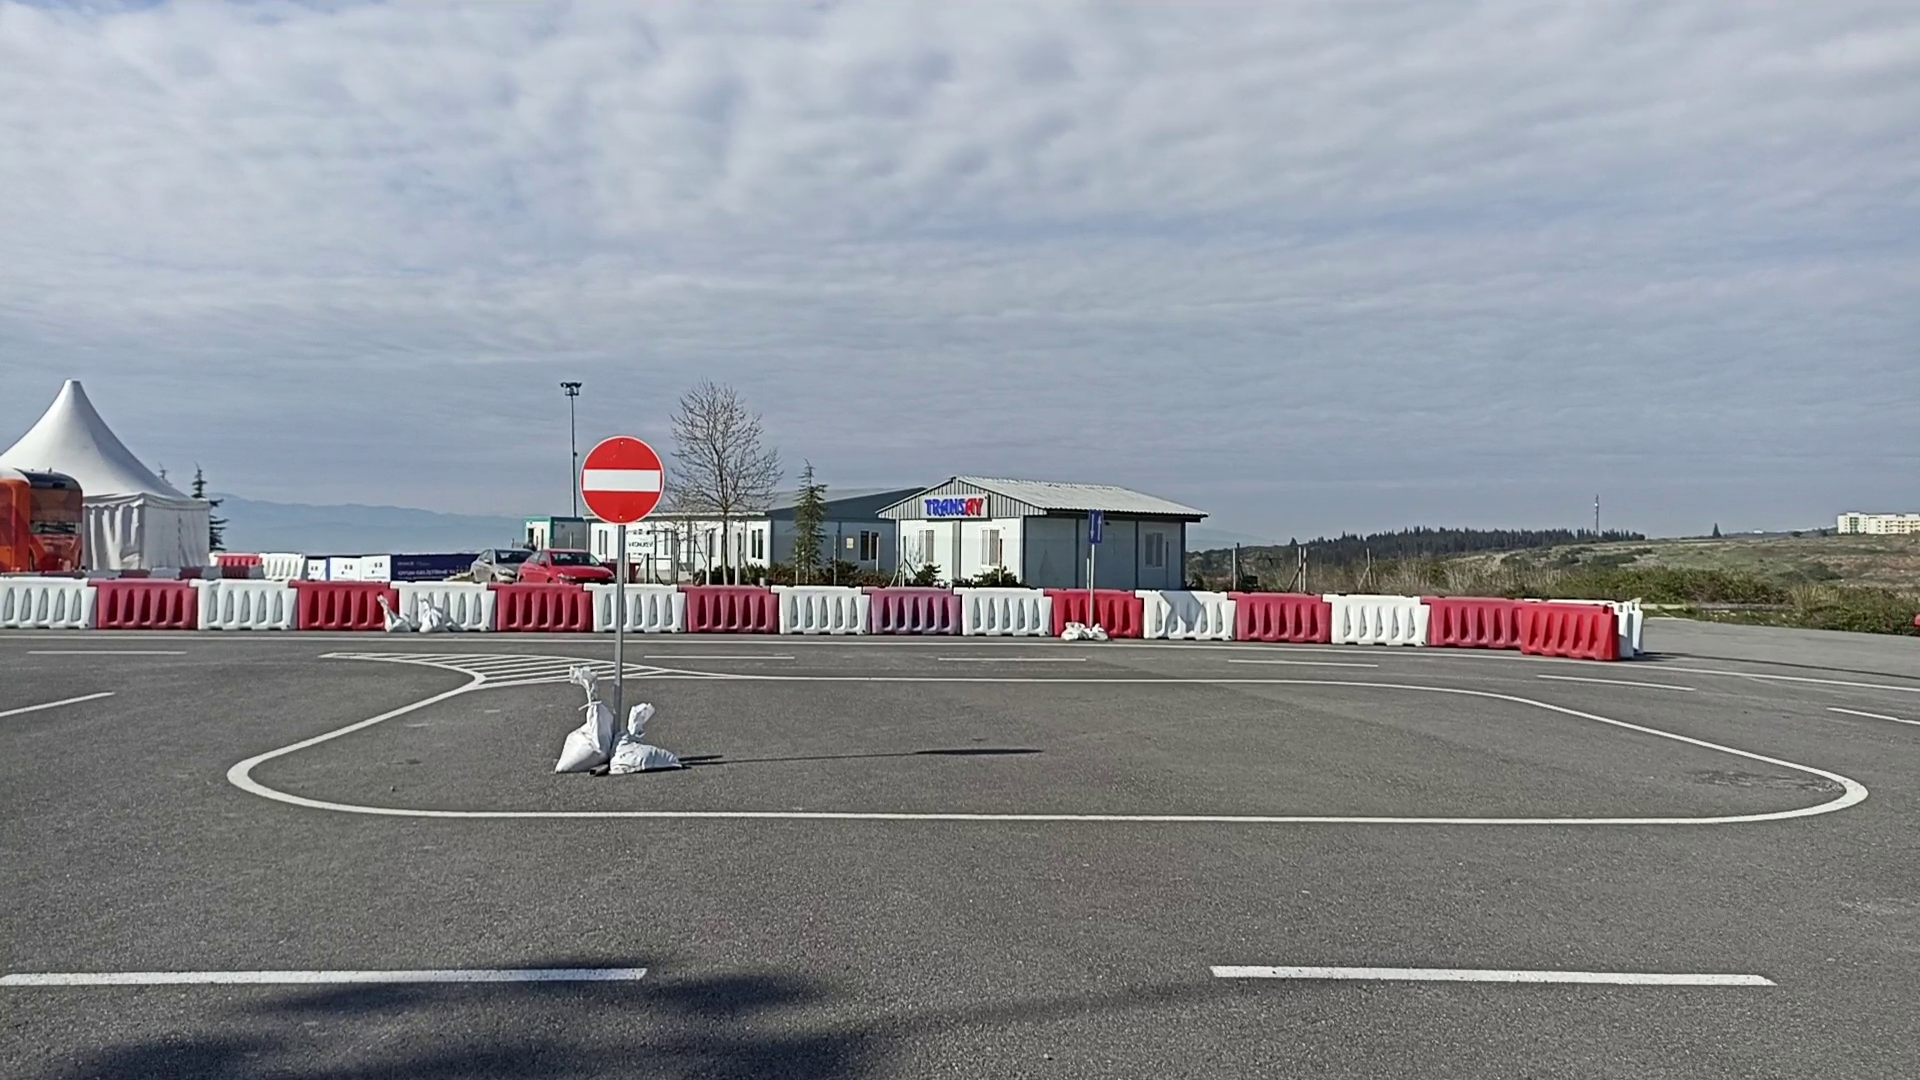noentryway: (578, 431, 665, 527)
